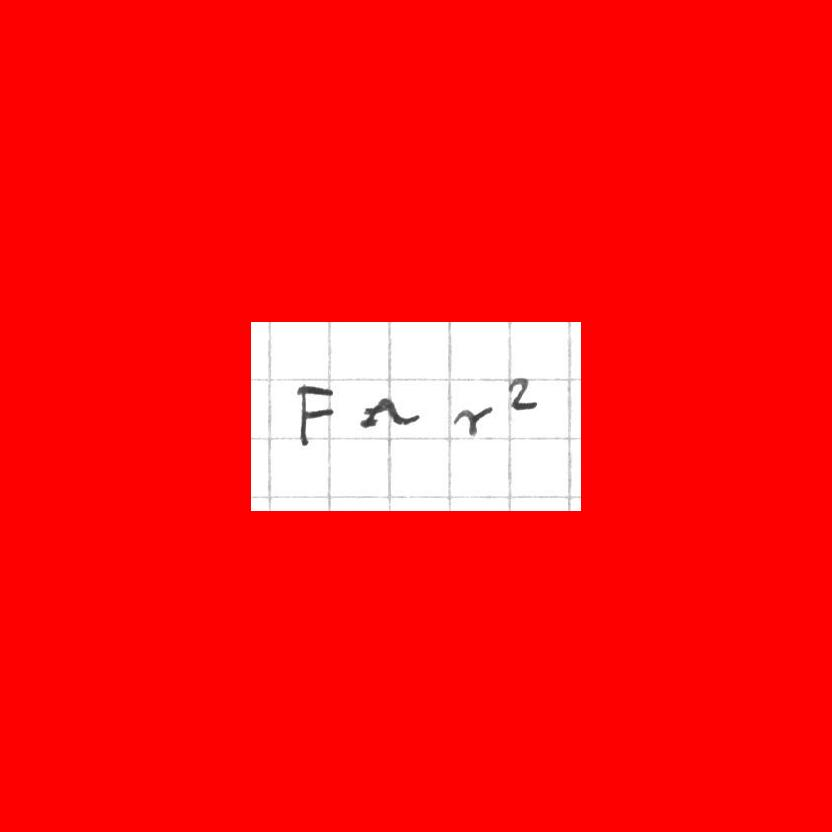Char: (294, 379, 337, 453), (361, 392, 425, 433), (501, 373, 542, 414), (451, 401, 494, 439)
